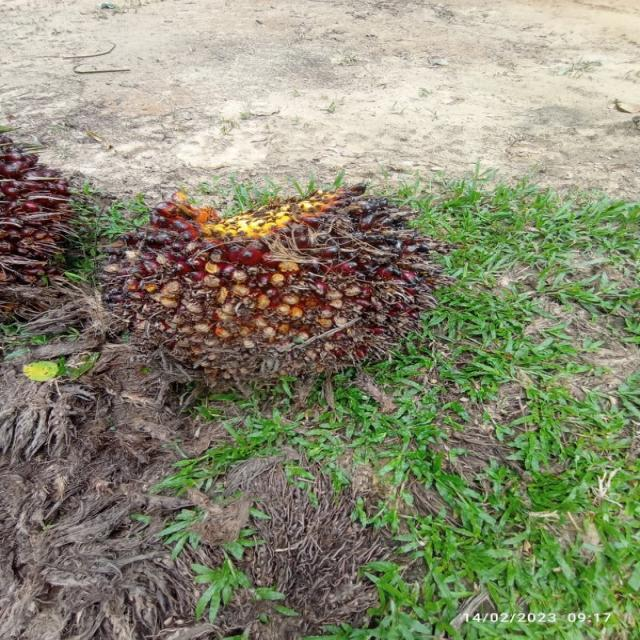fraksi 1: (92, 184, 450, 373)
